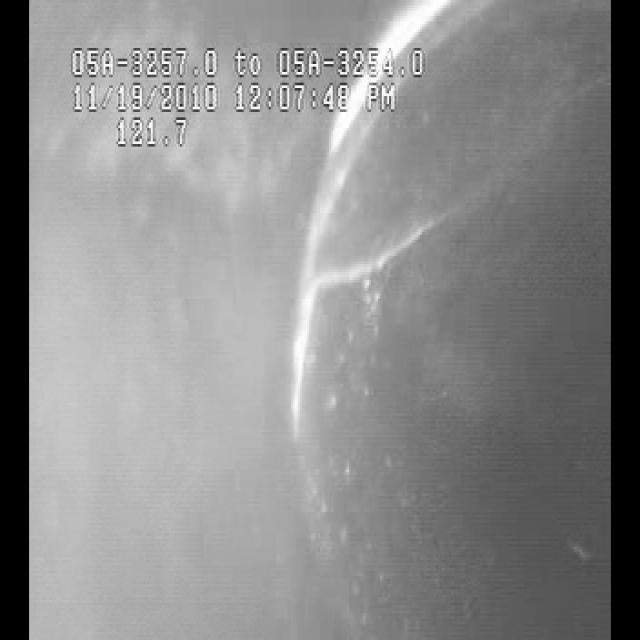Crack: (296, 186, 566, 330)
